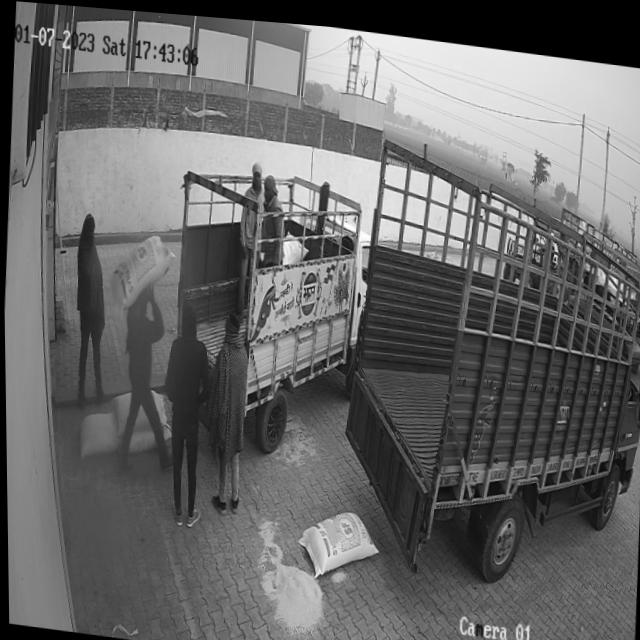sack: (295, 501, 378, 582), (110, 226, 175, 311), (108, 383, 166, 439), (75, 408, 116, 460), (116, 419, 171, 456)
